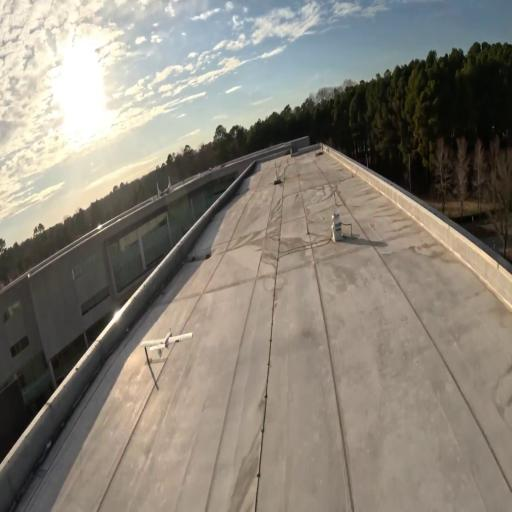uav: (139, 326, 195, 353)
